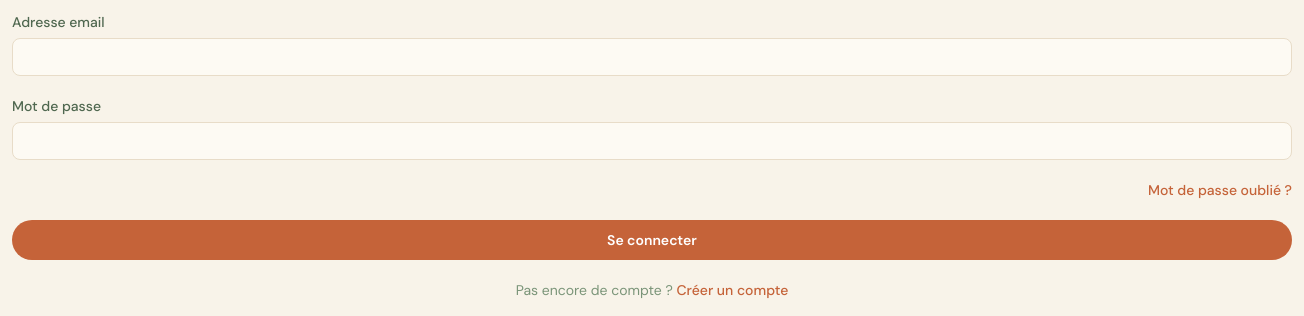
LoginForm › disables the button and shows "Connexion..." while submitting
Type "u@test.com" into the field labelled "Adresse email". click: (652, 57)
box: [12, 38, 1292, 76]
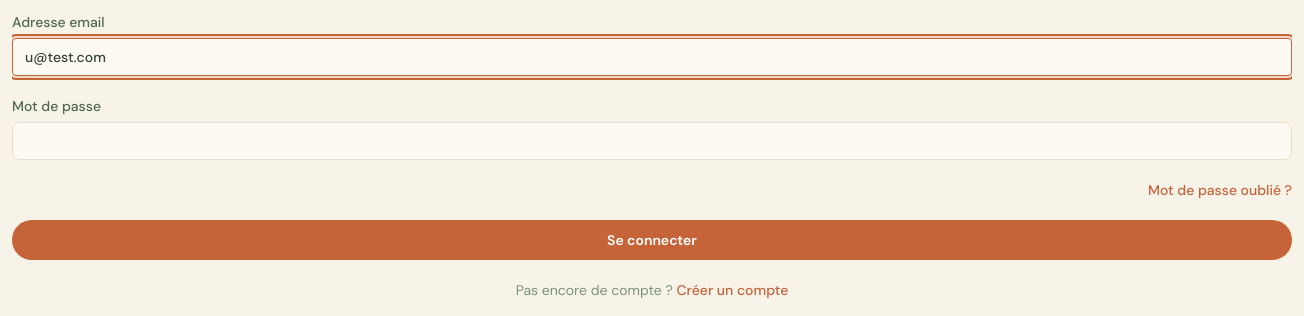
Type "secret" into the password field labelled "Mot de passe". click: (652, 141)
box: [12, 122, 1292, 160]
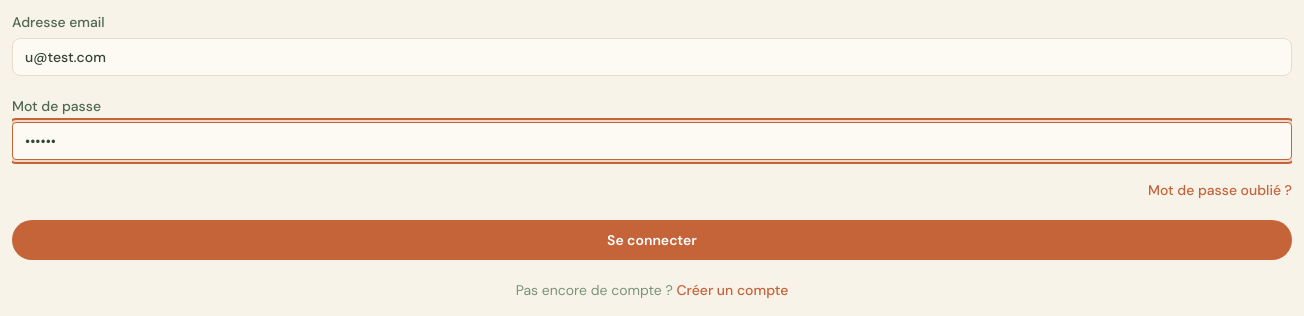
Click the button "Se connecter". click: (652, 240)
box: [12, 220, 1292, 260]
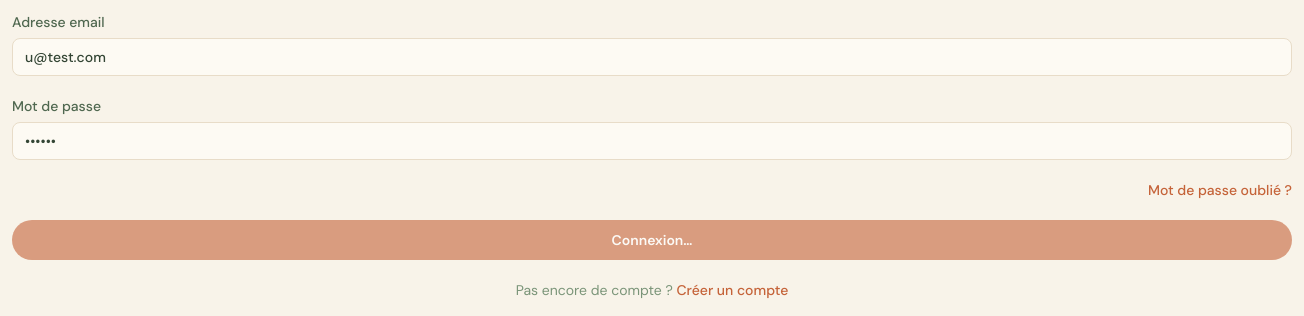
Expected: the button "Connexion…" is shown, [12, 220, 1292, 260]
